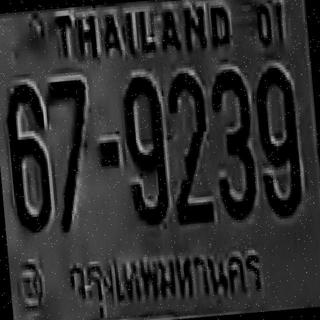N02: (162, 70, 213, 224)
N03: (206, 66, 257, 220)
N06: (2, 80, 52, 232)
N07: (44, 76, 97, 230), (44, 76, 94, 192)
N09: (119, 73, 170, 224), (252, 65, 303, 216)
P04: (62, 241, 270, 320)
